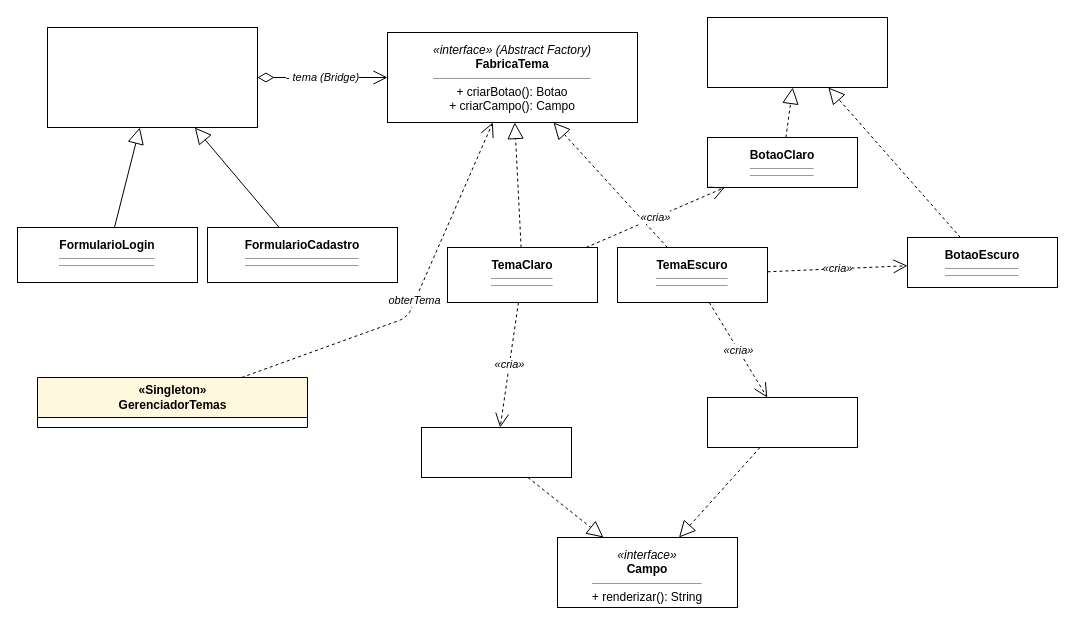
Image size: 1075x625. Some labels were removed from this diagram. The shapes that lost their labels are listed below. From the top down, each one's centre as x and y in pixels, then its label:
At pixel 797 52: "«interface» Botao + renderizar(): String".
At pixel 152 77: "«abstract» Formulario # tema: FabricaTema + montar(): String".
At pixel 782 422: "CampoEscuro".
At pixel 496 452: "CampoClaro".
